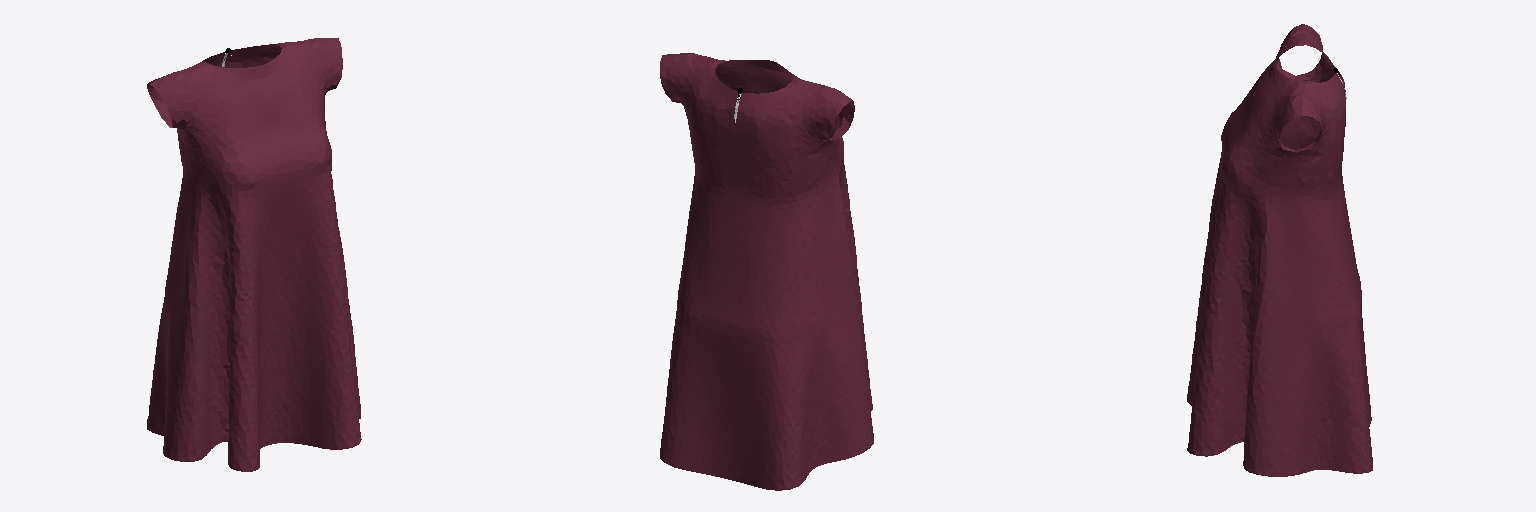
The picture shows the model from 3 angles: view 1: azimuth 30°, elevation 25°; view 2: azimuth 150°, elevation 25°; view 3: azimuth 270°, elevation 25°; orthographic projection.
Visible parts, largest first — view 1: small_looseBurgandy_noinside:polySurface1; view 2: small_looseBurgandy_noinside:polySurface1; view 3: small_looseBurgandy_noinside:polySurface1.
Boxes of the visible parts, x1,y1,x2,y2 form: small_looseBurgandy_noinside:polySurface1: [147, 38, 361, 471]; small_looseBurgandy_noinside:polySurface1: [660, 53, 873, 490]; small_looseBurgandy_noinside:polySurface1: [1187, 24, 1372, 476].
Size of the model in its own units: 4.24 by 8.22 by 3.59.
9 materials, 2 textured.